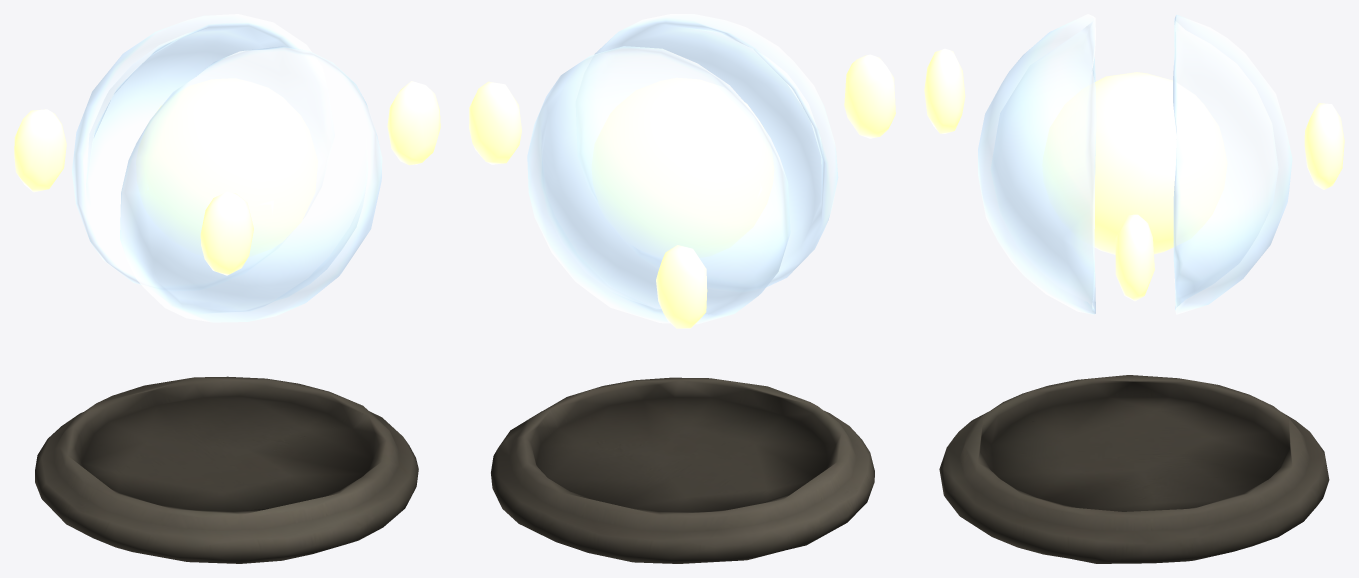
The model's file is sunmote_quick.glb.
3 renders of one model, left to right at view 1: azimuth 30°, elevation 25°; view 2: azimuth 150°, elevation 25°; view 3: azimuth 270°, elevation 25°, orthographic.
Visible parts, largest first — view 1: shell, base, core, chips; view 2: shell, base, core, chips; view 3: base, shell, core, chips.
Part boxes in pixels (x1,y1,x2,y2): shell: (72,14,382,322); base: (35,376,418,563); core: (136,78,317,256); chips: (14,81,440,275); shell: (527,14,838,324); base: (491,377,874,563); core: (592,78,773,257); chips: (469,54,895,328); base: (939,375,1329,563); shell: (978,14,1292,314); core: (1043,72,1226,254); chips: (924,48,1344,301).
Size of the model in its own units: 0.7668 by 0.8822 by 0.7283.
Materials: 3 (1 with a texture image).
